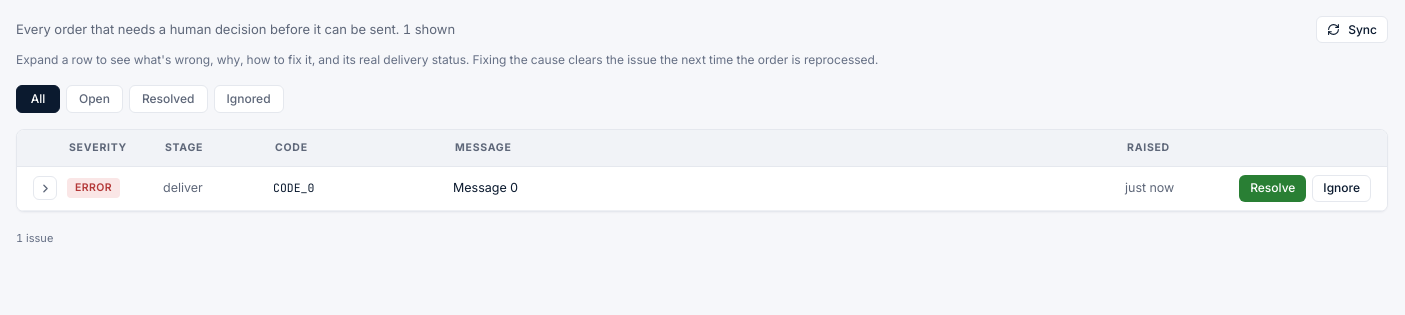
Scenario: exceptions — a refused mutation is visible and announced › falls back to copy that says the issue is UNCHANGED when the error carries no sentence
Click the button "Resolve".
click(1273, 188)  # box [1239,175,1306,202]
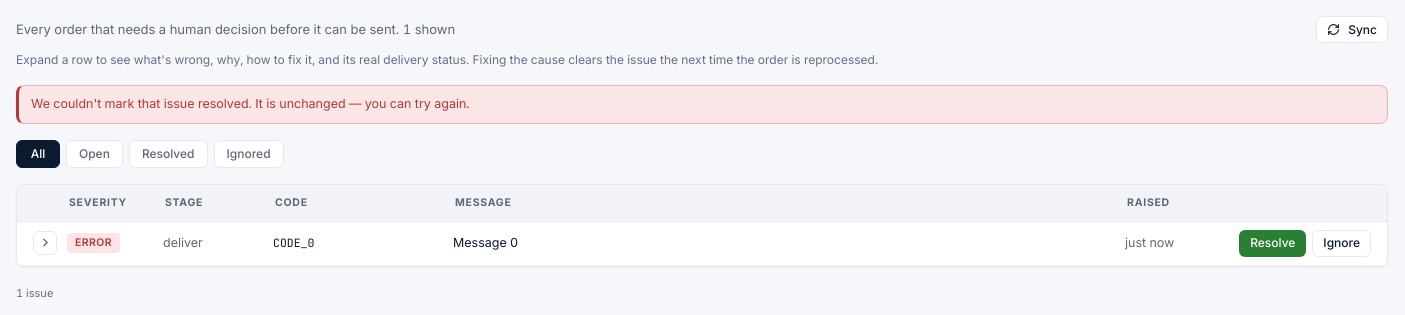
Result: the message shows "unchanged" at [31,96,470,111]
